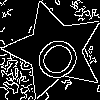O: (29, 25, 91, 86)
